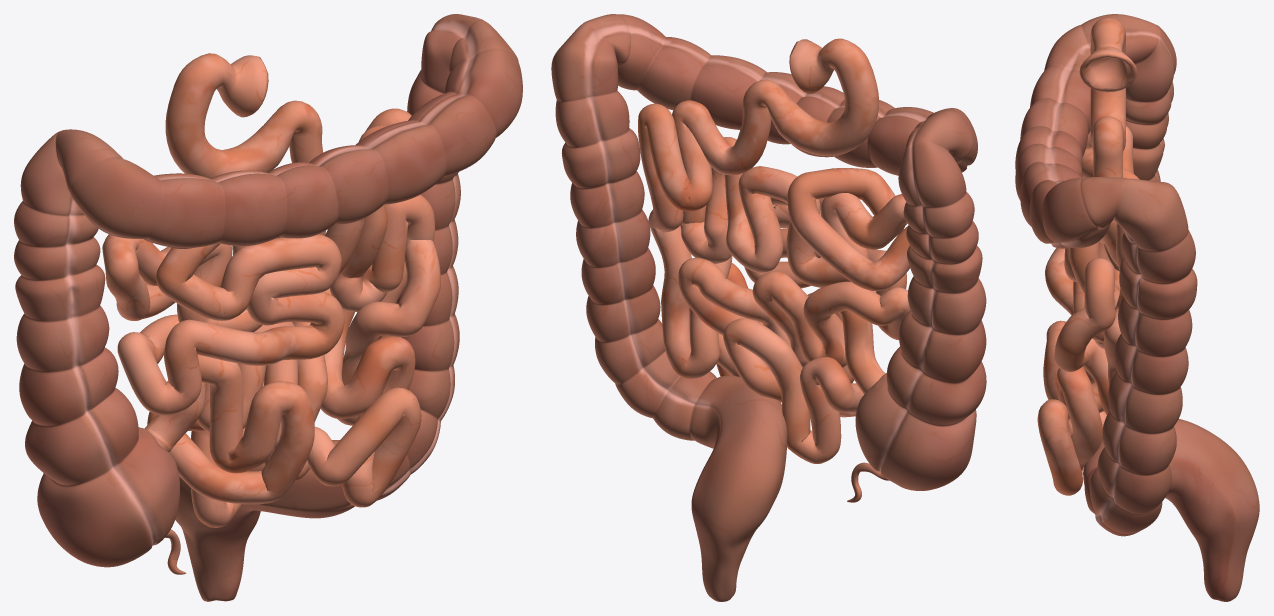
Rendered from small_and_large_intestine.glb.
The picture shows the model from 3 angles, left to right: view 1: azimuth 30°, elevation 25°; view 2: azimuth 150°, elevation 25°; view 3: azimuth 270°, elevation 25°; orthographic projection. The views are drawn at different scales.
Parts seen in each view (by area): view 1: Tjocktarm, Tunntarm; view 2: Tjocktarm, Tunntarm; view 3: Tjocktarm, Tunntarm.
Boxes of the visible parts, left/top/right/bottom form: Tjocktarm: left=14, top=14, right=522, bottom=601; Tunntarm: left=102, top=53, right=440, bottom=527; Tjocktarm: left=551, top=14, right=986, bottom=601; Tunntarm: left=638, top=38, right=910, bottom=463; Tjocktarm: left=1015, top=14, right=1259, bottom=601; Tunntarm: left=1037, top=17, right=1139, bottom=495.
Bounding box in the file's own units: 1.51 × 1.84 × 0.7469.
Materials: 2 (2 with a texture image).
